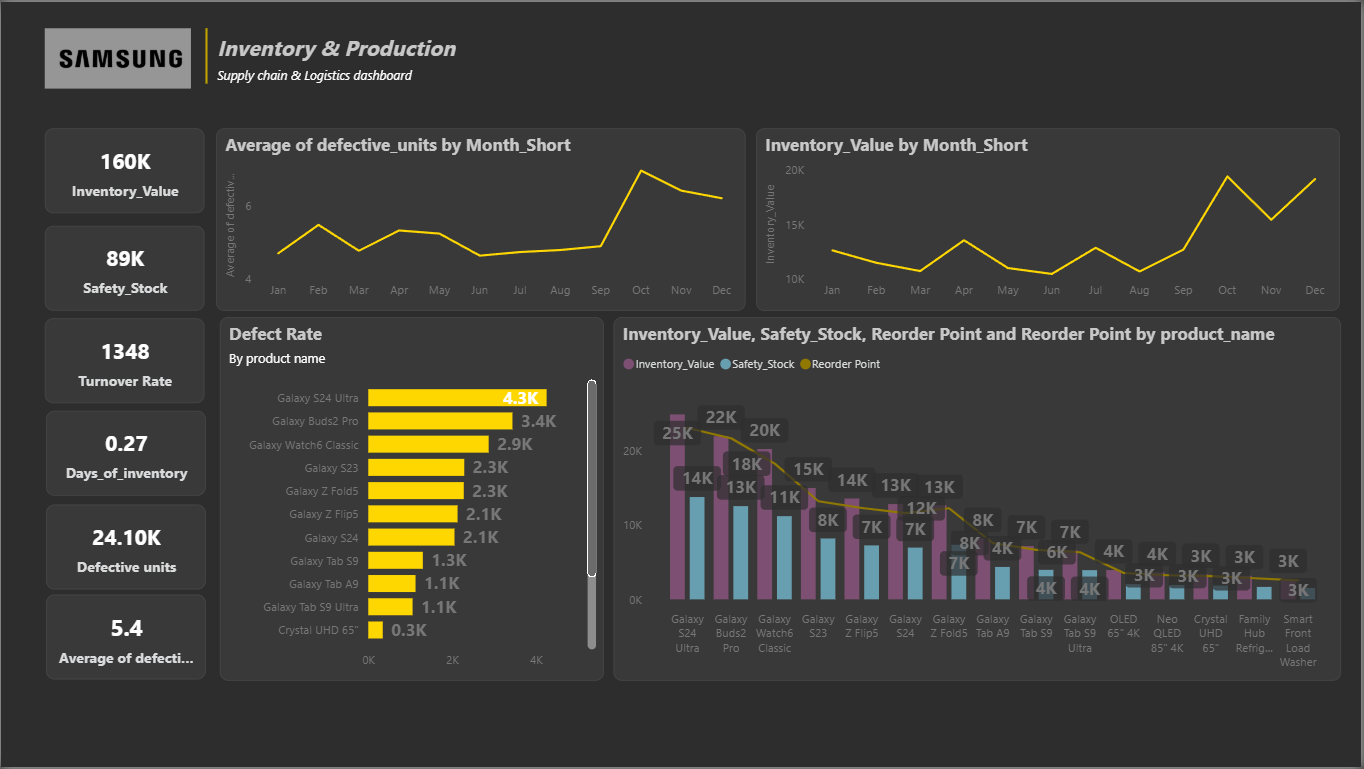

This screenshot's page, from the dashboard's own definition file:
{"tool":"powerbi","page":{"name":"Inventory","canvas":[1280,720],"ordinal":3},"visuals":[{"type":"shape","title":"Inventory & Production","box":[203.3,28.9,231.1,47.8],"z":0},{"type":"shape","box":[181.1,24.4,24.4,52.2],"z":1000},{"type":"image","box":[41.1,24.4,137.8,56.7],"z":2000},{"type":"card","fields":{"Values":["MeasuresTable.Safety_Stock"]},"box":[40.7,210.4,150,80],"z":3000},{"type":"card","fields":{"Values":["MeasuresTable.Turnover Rate"]},"box":[40.7,297.1,150,80],"z":4000},{"type":"card","fields":{"Values":["MeasuresTable.Days_of_inventory"]},"box":[42.9,384.9,150,80],"z":5000},{"type":"card","fields":{"Values":["Sum(fact_production.defective_units)"]},"box":[41.8,472.7,150,80],"z":6000},{"type":"card","fields":{"Values":["Avg(fact_production.defective_units)"]},"box":[41.9,558.1,150,80.2],"z":7000},{"type":"card","fields":{"Values":["MeasuresTable.Inventory_Value"]},"box":[41.1,118.9,150,80],"z":8000},{"type":"lineChart","fields":{"Category":["dim_date.Month_Short"],"Y":["Avg(fact_production.defective_units)"]},"box":[202.9,118.9,498.3,171.7],"z":9000},{"type":"lineChart","fields":{"Category":["dim_date.Month_Short"],"Y":["MeasuresTable.Inventory_Value"]},"box":[710.8,118.9,549.9,171.7],"z":10000},{"type":"lineClusteredColumnComboChart","title":"Inventory_Value, Safety_Stock, Reorder Point and Reorder Point by product_name","fields":{"Category":["dim_product.product_name"],"Y":["MeasuresTable.Inventory_Value","MeasuresTable.Safety_Stock"],"Y2":["MeasuresTable.Reorder Point"]},"box":[576.4,296.6,684.4,342.2],"z":11000},{"type":"clusteredBarChart","title":"Defect Rate","fields":{"Category":["dim_product.product_name"],"Y":["MeasuresTable.Defect_Rate"]},"box":[205.3,296.6,361.4,342.2],"z":12000}]}

Visuals, with their boxes in screenshot pixels (x1, y1, x2, y2), scaled from the page's 1280x720 canvas onto the 1364x769 screenshot:
"Inventory & Production" shape: <region>217, 31, 463, 82</region>
shape: <region>193, 26, 219, 82</region>
image: <region>44, 26, 191, 87</region>
card - MeasuresTable.Safety_Stock: <region>43, 225, 203, 310</region>
card - MeasuresTable.Turnover Rate: <region>43, 317, 203, 403</region>
card - MeasuresTable.Days_of_inventory: <region>46, 411, 206, 497</region>
card - Sum(fact_production.defective_units): <region>45, 505, 204, 590</region>
card - Avg(fact_production.defective_units): <region>45, 596, 204, 682</region>
card - MeasuresTable.Inventory_Value: <region>44, 127, 204, 212</region>
lineChart - dim_date.Month_Short x Avg(fact_production.defective_units): <region>216, 127, 747, 310</region>
lineChart - dim_date.Month_Short x MeasuresTable.Inventory_Value: <region>757, 127, 1343, 310</region>
"Inventory_Value, Safety_Stock, Reorder Point and Reorder Point by product_name" lineClusteredColumnComboChart: <region>614, 317, 1344, 682</region>
"Defect Rate" clusteredBarChart: <region>219, 317, 604, 682</region>
